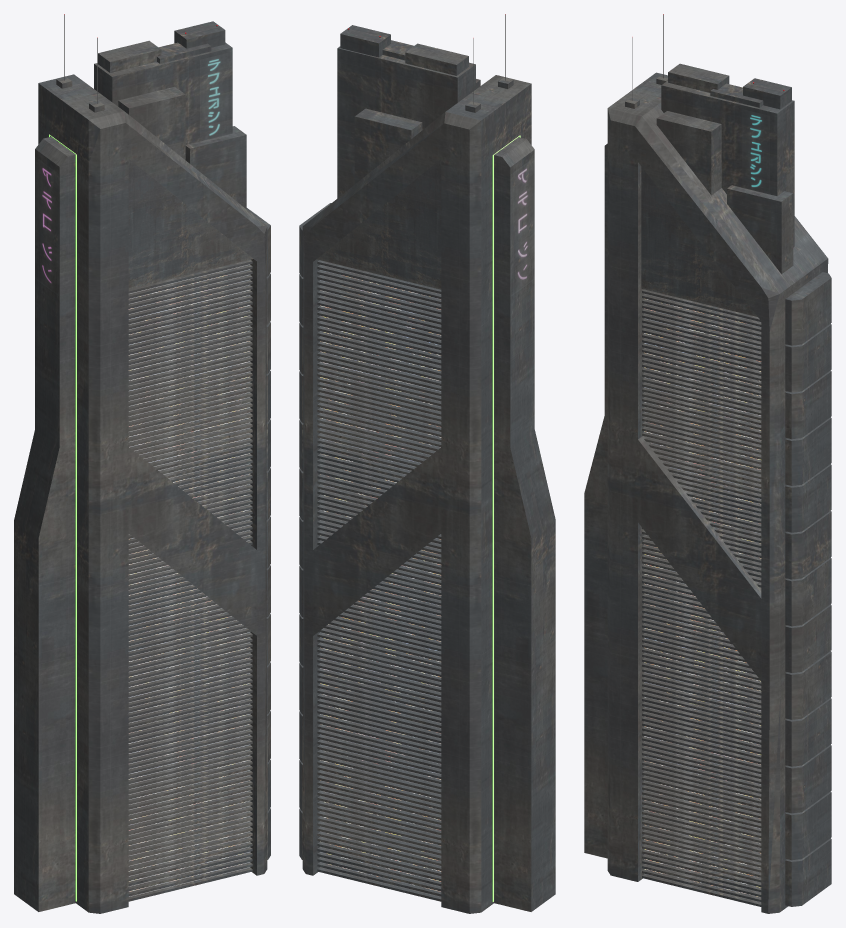
The model's file is sci-fi-brutalist-tower-with-ads.glb.
The picture shows the model from 3 angles, left to right: view 1: azimuth 30°, elevation 25°; view 2: azimuth 150°, elevation 25°; view 3: azimuth 330°, elevation 25°; orthographic projection. The views are drawn at different scales.
Parts seen in each view (by area): view 1: sci-fi-brutalist-tower-with-ads; view 2: sci-fi-brutalist-tower-with-ads; view 3: sci-fi-brutalist-tower-with-ads.
Boxes of the visible parts, box(x1,y1,x2,y2) form: sci-fi-brutalist-tower-with-ads: box(14, 14, 270, 913); sci-fi-brutalist-tower-with-ads: box(299, 14, 555, 913); sci-fi-brutalist-tower-with-ads: box(584, 14, 831, 913).
Bounding box in the file's own units: 201 × 724 × 89.63.
Materials: 8 (4 with a texture image).
